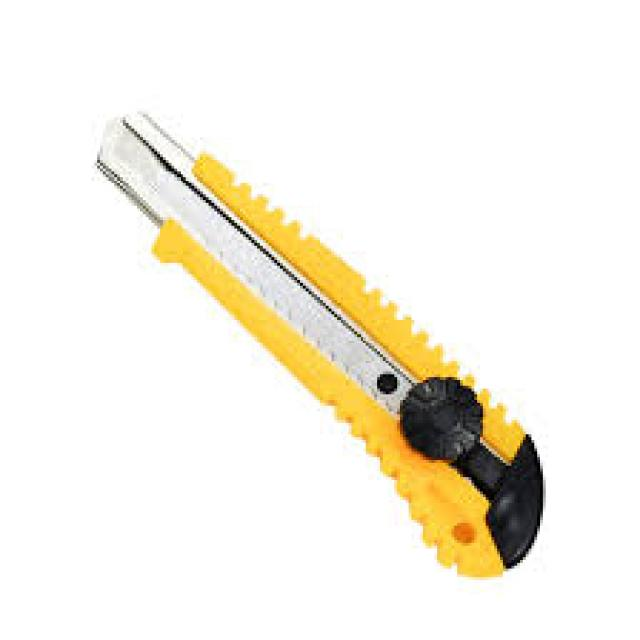Knife: (97, 114, 540, 574)
